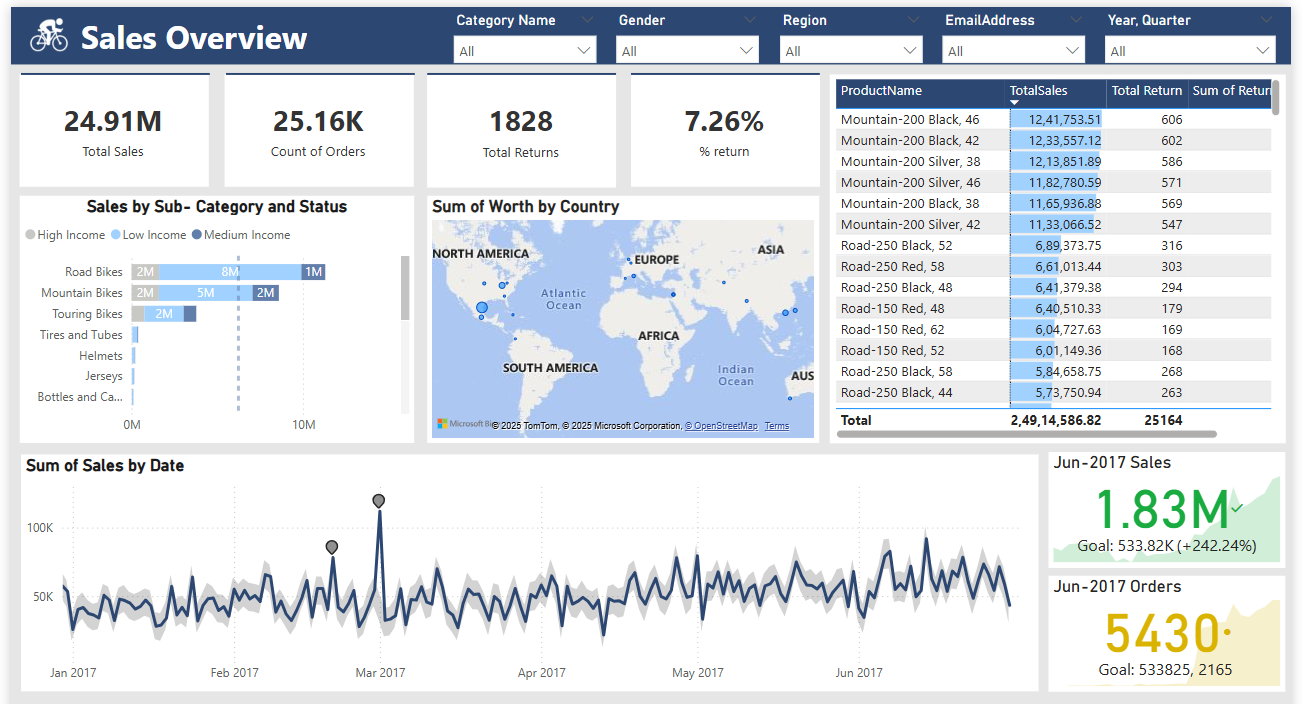

The page's visual inventory and layout, read from the dashboard file:
{"tool":"powerbi","page":{"name":"Overview","canvas":[1280,720],"ordinal":0},"visuals":[{"type":"shape","title":"Report Title","box":[0,0,1280.3,57.5],"z":0},{"type":"image","title":"Logo","box":[9.8,0,56.3,57.5],"z":1000},{"type":"group","id":"g1","title":"Card Visual","box":[9.3,53.2,799.3,126.6],"z":2000},{"type":"card","title":"Total sales Card","fields":{"Values":["Measure Table.TotalSales"]},"box":[9.3,67.1,188.5,112.2],"z":2000,"group":"g1"},{"type":"card","title":"Count of orders Card","fields":{"Values":["Count(FinaL Sales.OrderNumber)"]},"box":[214,67.1,188.5,112.2],"z":3000,"group":"g1"},{"type":"barChart","title":"Sales by Sub- Category and Status","fields":{"Category":["Product Subcategories.SubcategoryName"],"Y":["Measure Table.TotalSales"],"Series":["Customers Table.Status"]},"box":[9.3,188.5,394.4,247.5],"z":3000},{"type":"card","title":"Total returns card","fields":{"Values":["Sum(Returns.ReturnQuantity)"]},"box":[416.3,66.6,188.6,113.2],"z":4000,"group":"g1"},{"type":"lineChart","title":"Sum of Sales by Date","fields":{"Y":["Measure Table.TotalSales"],"Category":["DateTable.Date"]},"box":[10.4,447.6,1017.9,237.1],"z":4000},{"type":"card","title":"Return percentage Card","fields":{"Values":["Measure Table.%return"]},"box":[620,67.1,188.5,112.2],"z":5000,"group":"g1"},{"type":"kpi","fields":{"Indicator":["Measure Table.TotalSales"],"TrendLine":["DateTable.MonthYear"],"Goal":["Measure Table.previousyearsales"]},"box":[1037.6,445.3,237.1,115.7],"z":5000},{"type":"shape","title":"Line Card","box":[10.5,53.2,188.5,26.6],"z":6000,"group":"g1"},{"type":"kpi","fields":{"TrendLine":["DateTable.MonthYear"],"Goal":["Measure Table.previousyearsales","Measure Table.previousmonthorders"],"Indicator":["CountNonNull(FinaL Sales.OrderNumber)"]},"box":[1037.6,569.1,237.1,115.7],"z":6000},{"type":"shape","title":"Line Card","box":[215.2,53.2,188.5,26.6],"z":7000,"group":"g1"},{"type":"tableEx","fields":{"Values":["Products.ProductName","Measure Table.TotalSales","FinaL Sales.OrderNumber","Sum(Returns.ReturnQuantity)"]},"box":[818.9,67.1,455.7,369],"z":7000},{"type":"shape","title":"Line Card","box":[416.5,53.2,188.5,26.6],"z":8000,"group":"g1"},{"type":"map","fields":{"Category":["Map.Country","Map.City"],"Size":["Sum(Map.Worth)"]},"box":[416.4,188.5,392.1,247.5],"z":8000},{"type":"slicer","fields":{"Values":["Product Categories.CategoryName"]},"box":[433.1,0,162.9,57.9],"z":9000,"group":"g2"},{"type":"shape","title":"Line Card","box":[620,53.2,188.5,26.6],"z":9000,"group":"g1"},{"type":"slicer","fields":{"Values":["Customers Table.Gender"]},"box":[596,0,162.9,57.9],"z":10000,"group":"g2"},{"type":"slicer","fields":{"Values":["Territories.Region"]},"box":[758.8,0,162.9,57.9],"z":11000,"group":"g2"},{"type":"slicer","fields":{"Values":["Customers Table.EmailAddress"]},"box":[921.7,0,162.9,57.9],"z":12000,"group":"g2"},{"type":"slicer","fields":{"Values":["DateTable.MonthYear.Variation.Date Hierarchy.Year","DateTable.MonthYear.Variation.Date Hierarchy.Quarter"]},"box":[1084.6,0,190.6,57.9],"z":13000,"group":"g2"},{"type":"group","id":"g2","title":"Slicer","box":[433.1,0,842.1,57.9],"z":13001}]}

Visuals, with their boxes on the page's 1280x720 design canvas (x1, y1, x2, y2). These are canvas units, not pixel positions in the 1302x704 screenshot, which may show the page scaled, cropped or inside an application window:
"Report Title" shape: locate(0, 0, 1280, 58)
"Logo" image: locate(10, 0, 66, 58)
"Card Visual" group: locate(9, 53, 809, 180)
"Total sales Card" card: locate(9, 67, 198, 179)
"Count of orders Card" card: locate(214, 67, 402, 179)
"Sales by Sub- Category and Status" barChart: locate(9, 188, 404, 436)
"Total returns card" card: locate(416, 67, 605, 180)
"Sum of Sales by Date" lineChart: locate(10, 448, 1028, 685)
"Return percentage Card" card: locate(620, 67, 808, 179)
kpi - Measure Table.TotalSales x DateTable.MonthYear: locate(1038, 445, 1275, 561)
"Line Card" shape: locate(10, 53, 199, 80)
kpi - DateTable.MonthYear x Measure Table.previousyearsales: locate(1038, 569, 1275, 685)
"Line Card" shape: locate(215, 53, 404, 80)
tableEx - Products.ProductName x Measure Table.TotalSales: locate(819, 67, 1275, 436)
"Line Card" shape: locate(416, 53, 605, 80)
map - Map.Country x Map.City: locate(416, 188, 808, 436)
slicer - Product Categories.CategoryName: locate(433, 0, 596, 58)
"Line Card" shape: locate(620, 53, 808, 80)
slicer - Customers Table.Gender: locate(596, 0, 759, 58)
slicer - Territories.Region: locate(759, 0, 922, 58)
slicer - Customers Table.EmailAddress: locate(922, 0, 1085, 58)
slicer - DateTable.MonthYear.Variation.Date Hierarchy.Year x DateTable.MonthYear.Variation.Date Hierarchy.Quarter: locate(1085, 0, 1275, 58)
"Slicer" group: locate(433, 0, 1275, 58)
